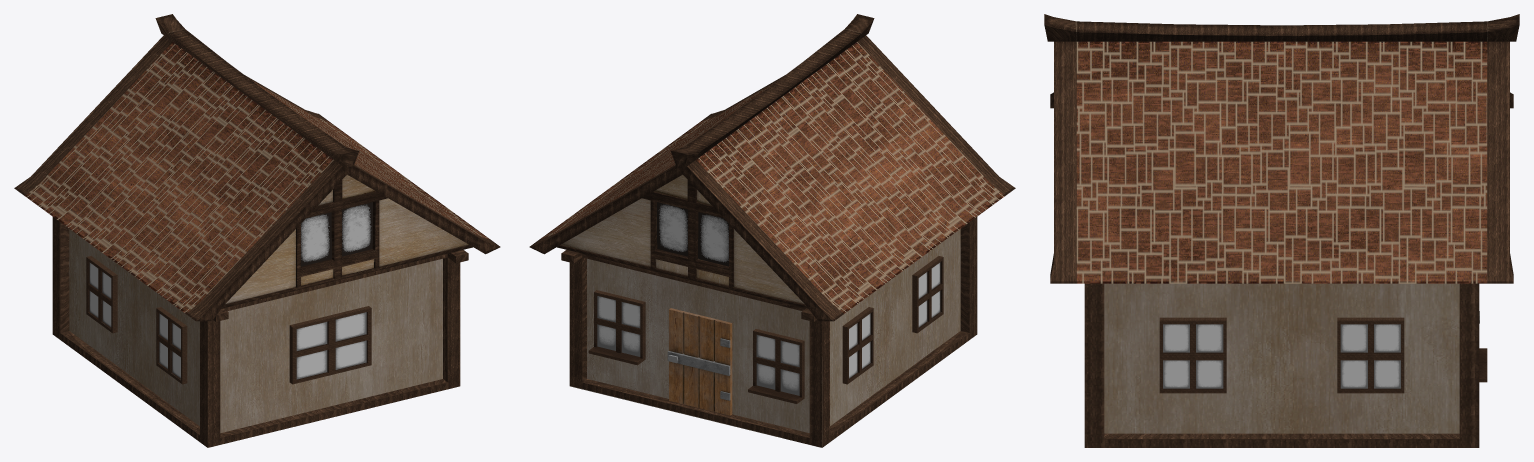
Rendered from House_7.fbx.
3 views of the same model, side by side, from view 1: azimuth 30°, elevation 25°; view 2: azimuth 150°, elevation 25°; view 3: azimuth 270°, elevation 25° (orthographic). The views are drawn at different scales.
Parts seen in each view (by area): view 1: roof2, block2, window9, window3, window8; view 2: roof2, block2, door2, window13, window12, window8, window3; view 3: roof2, block2, window10, window11.
Part boxes in pixels (x1,y1,x2,y2): roof2: (14,14,500,321); block2: (52,217,468,447); window9: (289,306,371,384); window3: (86,256,117,333); window8: (156,307,187,384); roof2: (529,14,1015,321); block2: (561,217,977,447); door2: (667,308,732,415); window13: (588,290,645,365); window12: (748,329,804,403); window8: (912,256,943,333); window3: (842,307,873,384); roof2: (1044,14,1519,283); block2: (1084,283,1479,447); window10: (1337,317,1404,393); window11: (1159,317,1226,393).
Size of the model in its own units: 9.28 by 8.02 by 9.84.
